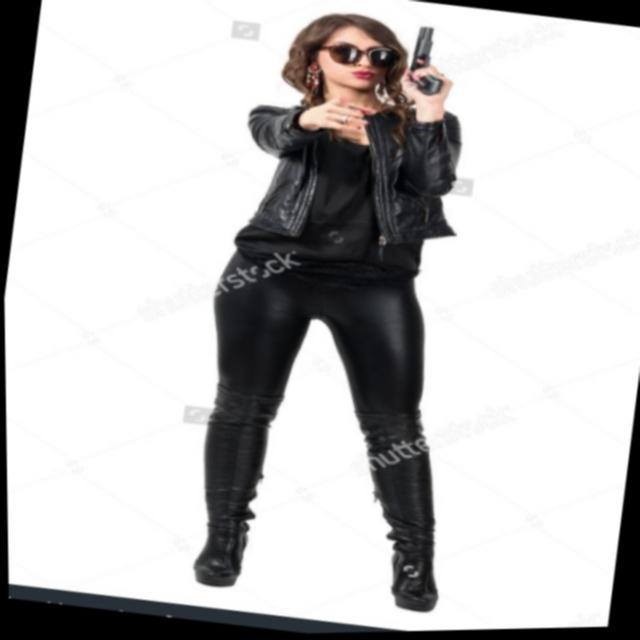weapon: (405, 26, 450, 100)
